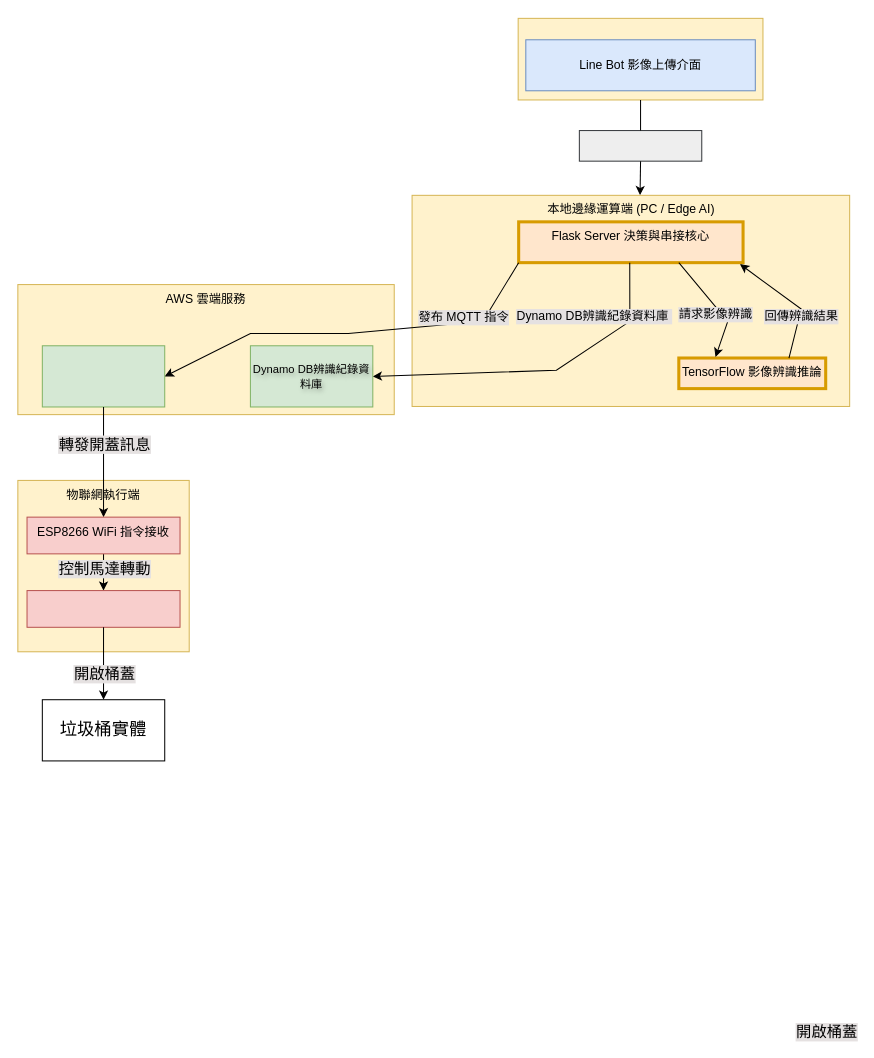
This 874x1058 diagram has some shape labels left out. Here are the shapes that lost their labels. From the top down, the box of each, then its label:
(517, 17, 763, 100): 使用者端
(578, 130, 702, 161): 上傳垃圾照片
(41, 345, 165, 407): AWS IoT Core MQTT 訊息中繼
(26, 590, 180, 627): 伺服馬達垃圾桶蓋驅動
